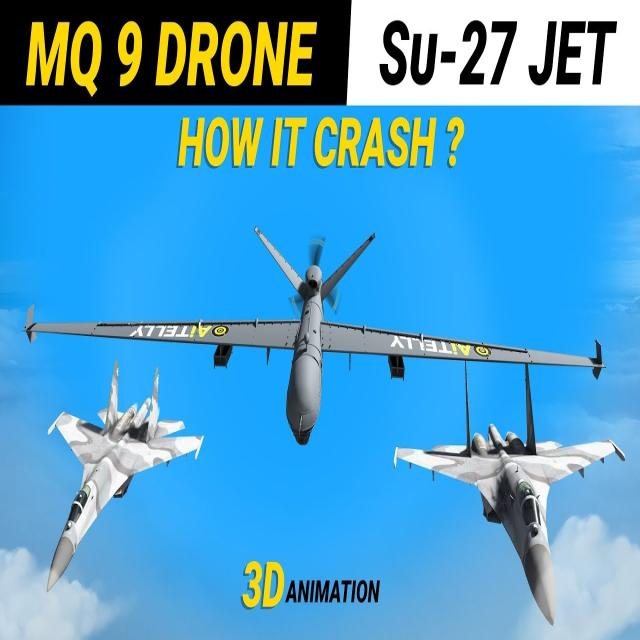MQ9: (20, 208, 634, 452), (370, 399, 640, 640), (16, 344, 223, 618)
